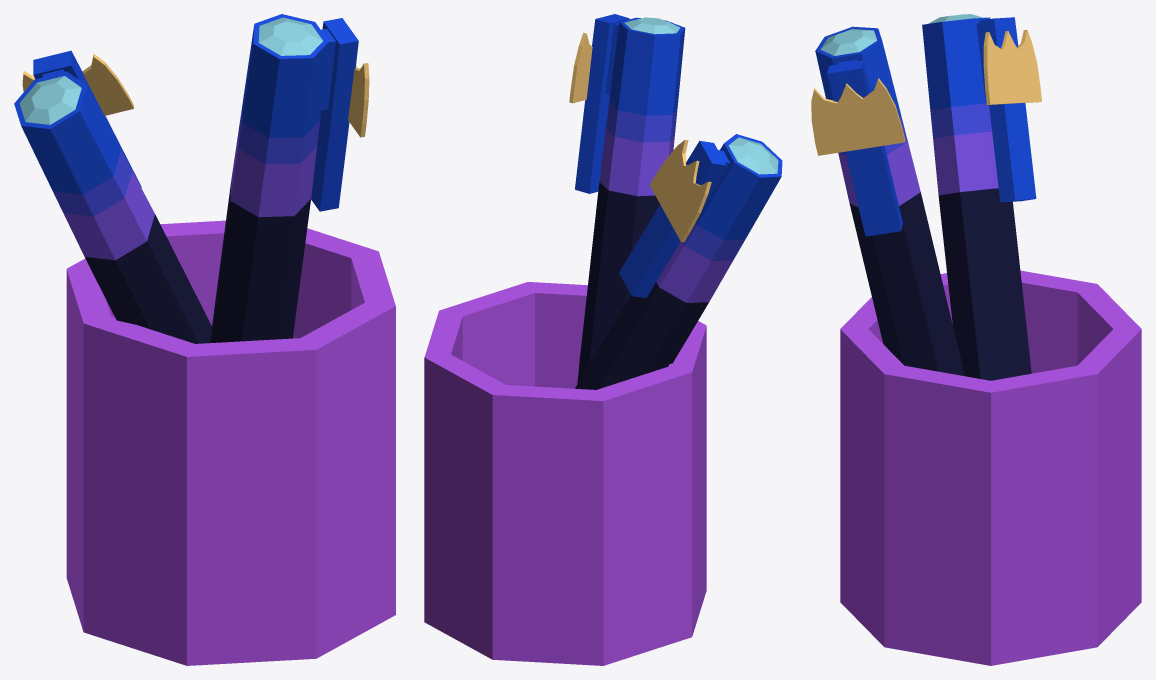
The model's file is PenCup.001.fbx.
3 views of the same model, side by side, from view 1: azimuth 30°, elevation 25°; view 2: azimuth 150°, elevation 25°; view 3: azimuth 270°, elevation 25° (orthographic). The views are drawn at different scales.
Parts seen in each view (by area): view 1: PenCup.001; view 2: PenCup.001; view 3: PenCup.001.
Part boxes in pixels (x1,y1,x2,y2): PenCup.001: [14, 14, 395, 665]; PenCup.001: [424, 14, 782, 665]; PenCup.001: [811, 14, 1141, 665].
Size of the model in its own units: 50.27 by 80.13 by 42.95.
